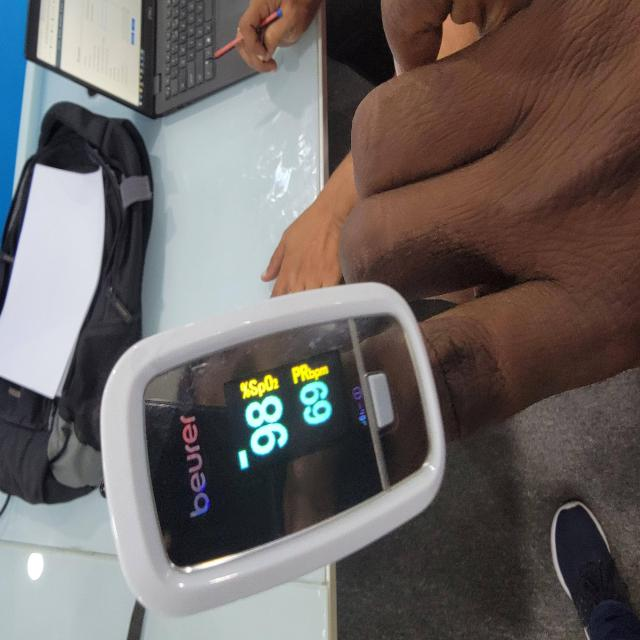spo2: (99, 284, 447, 621)
